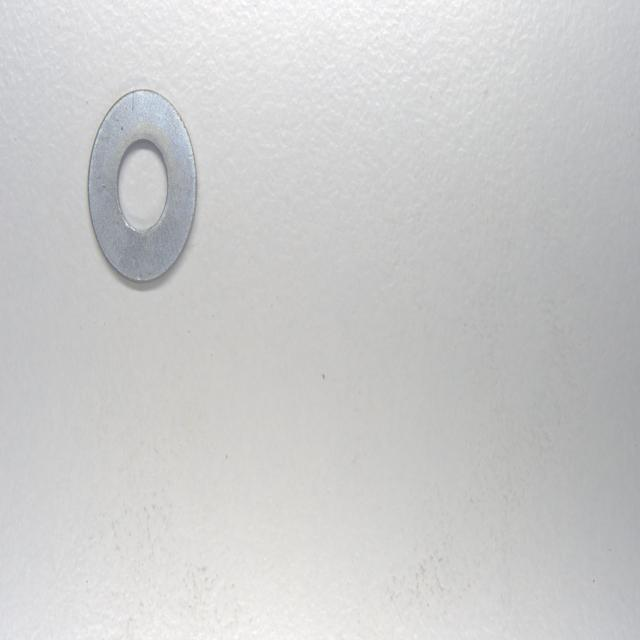washer: (85, 86, 198, 284)
